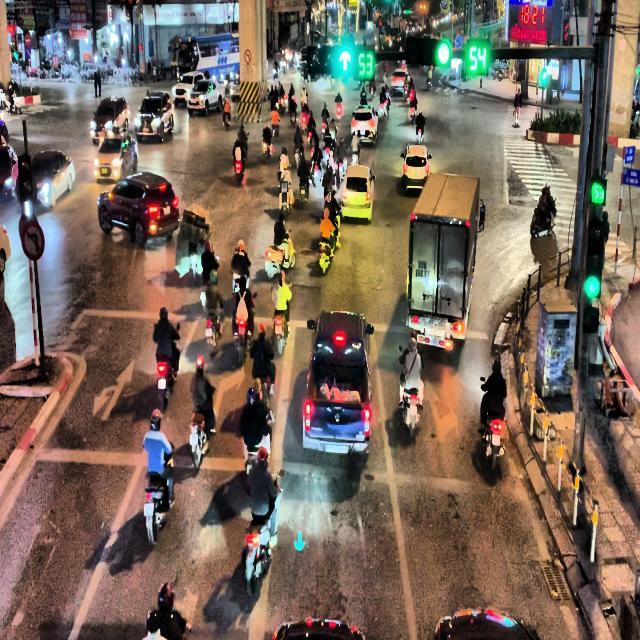lisence_plate: (321, 440, 352, 455), (416, 261, 430, 282), (427, 328, 445, 337), (163, 205, 172, 215)
